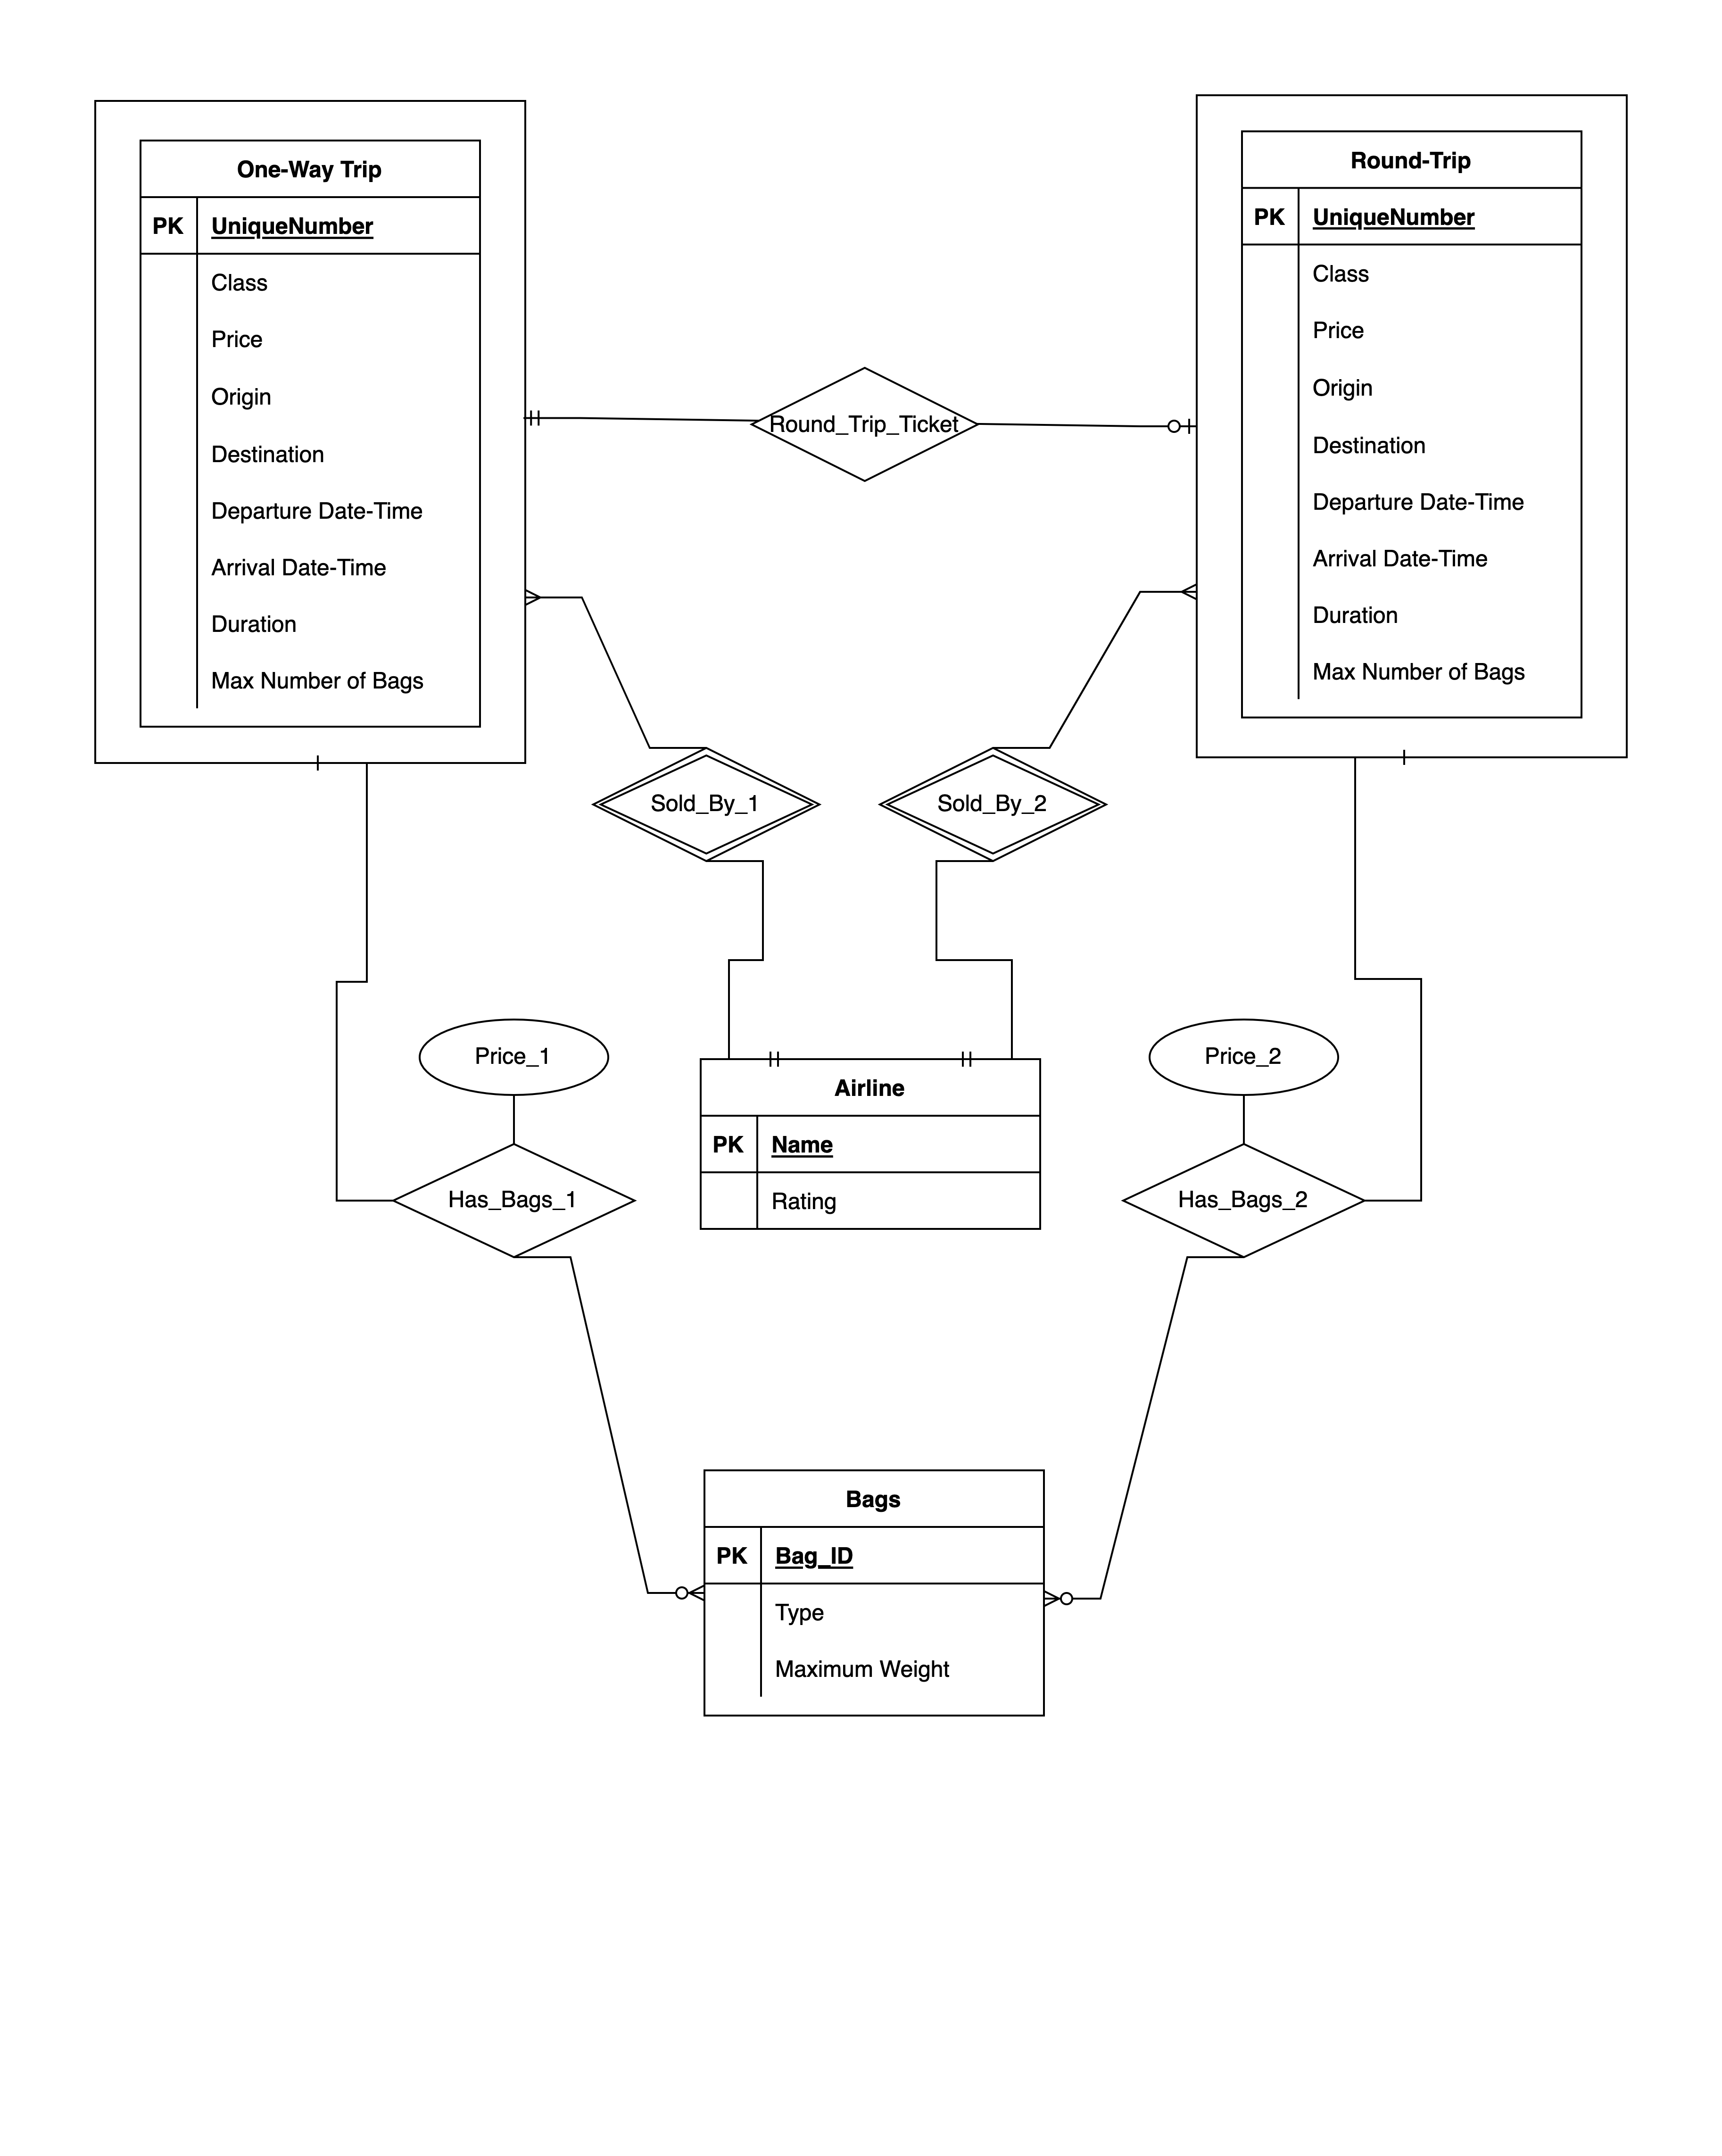entity: (698, 1471, 1045, 1715)
ident_rel: (594, 743, 821, 863), (882, 749, 1111, 859)
many: (522, 573, 583, 626), (1042, 1581, 1102, 1624), (641, 1567, 701, 1608), (1158, 566, 1198, 611)
one: (518, 390, 578, 439), (1349, 736, 1420, 770), (1144, 401, 1197, 445), (297, 747, 357, 780)
rel: (1121, 1139, 1365, 1256), (397, 1140, 634, 1258), (750, 367, 980, 476)
rel_attr: (1146, 1016, 1342, 1098), (418, 1019, 613, 1095)
weak_entity: (90, 95, 529, 761), (1197, 95, 1620, 756)
